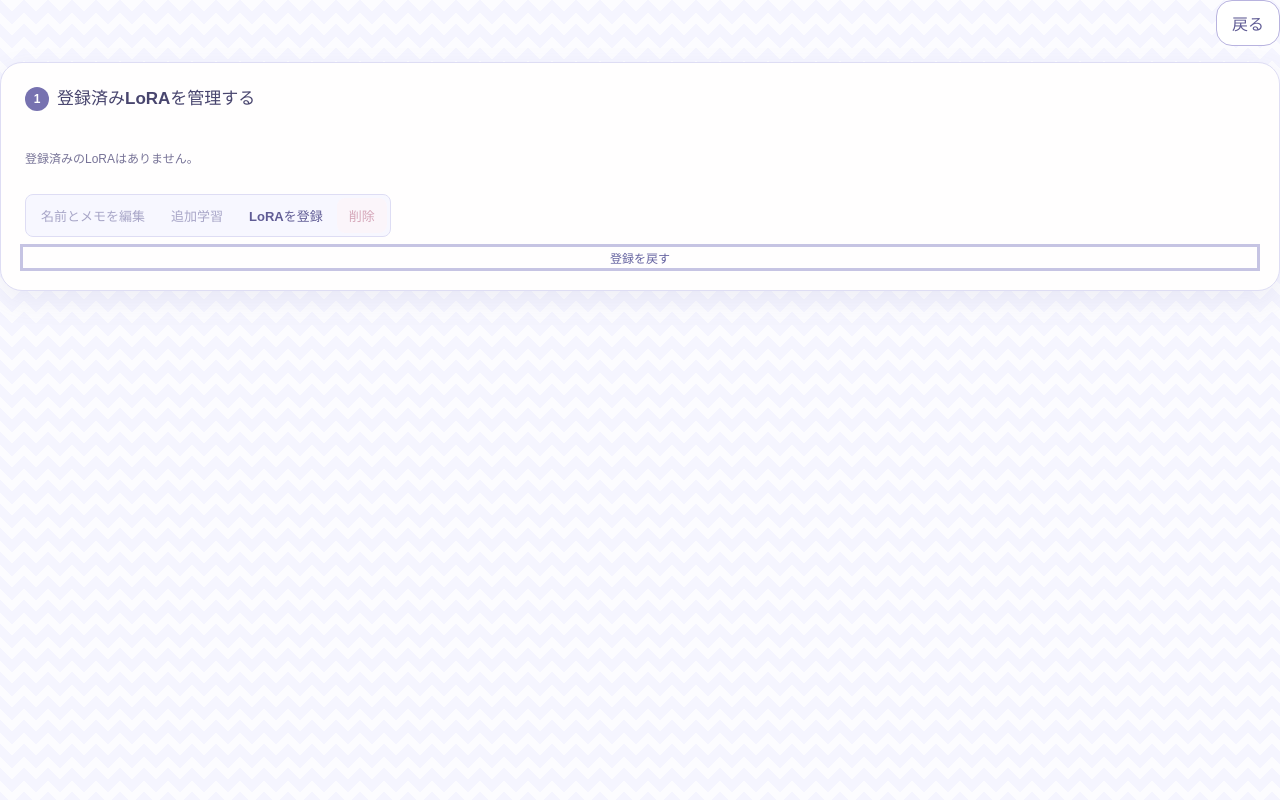
Scenario: locks restore and close while pending and restores focus on close
The width and height of the screenshot is (1280, 800).
Later steps or results of the test are not shown.
Click the button "登録を戻す".
click(640, 257)  # box [25, 248, 1255, 266]
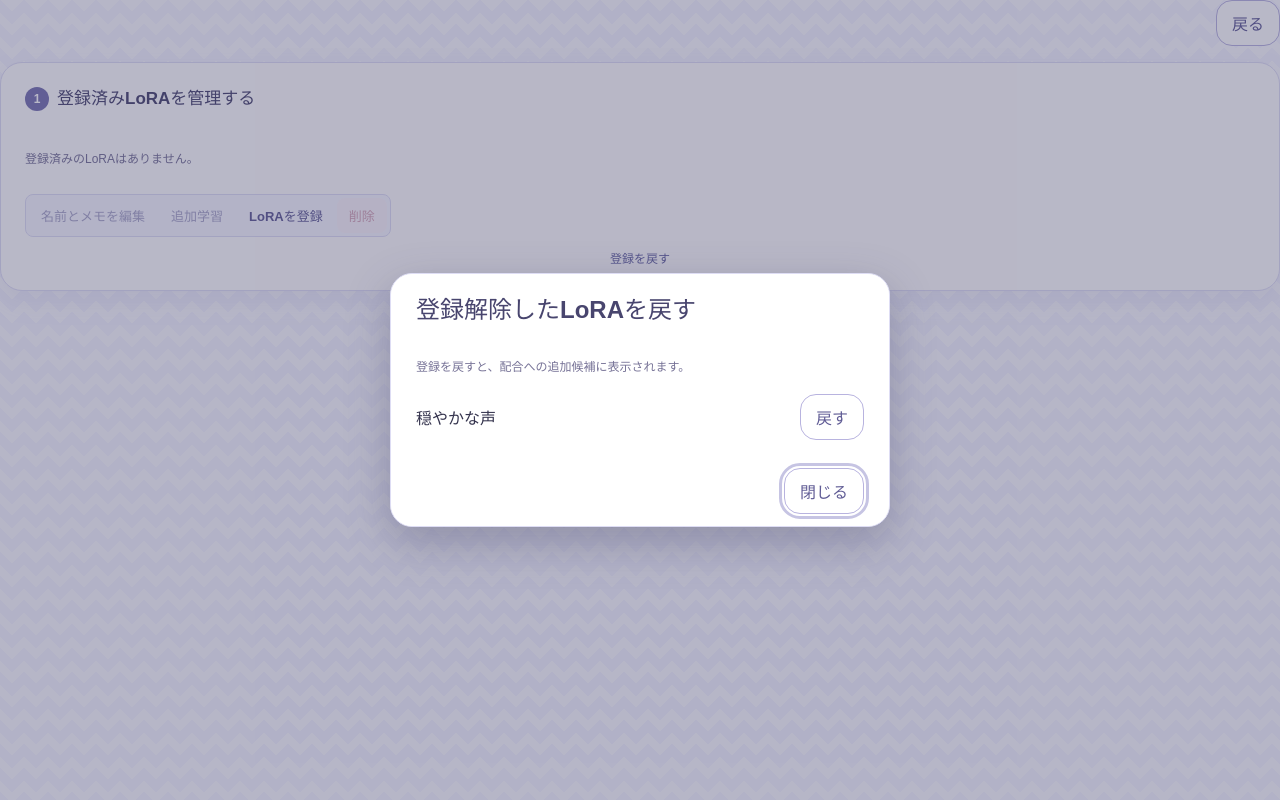
Click the button with aria-label "穏やかな声を戻す".
click(832, 417)  # box [800, 394, 864, 440]
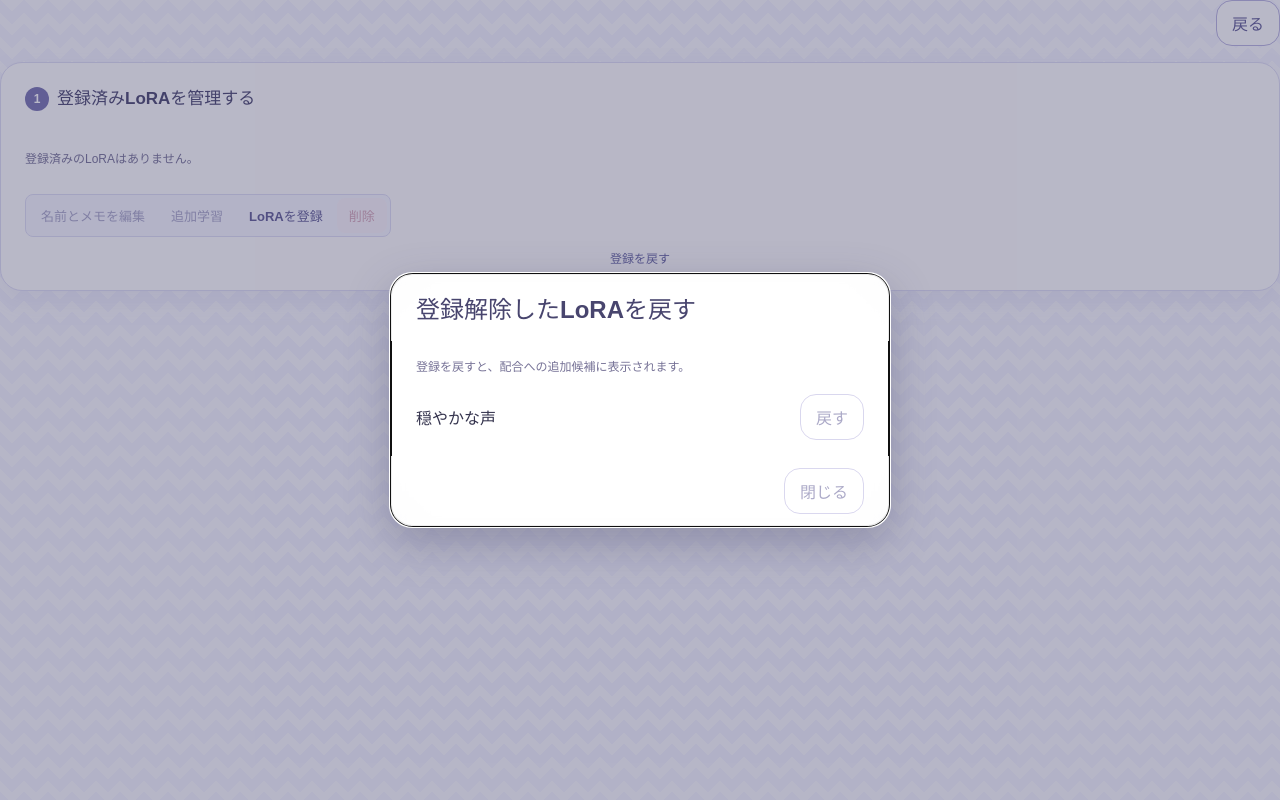
Click the button with aria-label "穏やかな声を戻す".
click(832, 417)  # box [800, 394, 864, 440]
Check: the button "閉じる" is disabled, box [784, 468, 864, 514]
Press Escape
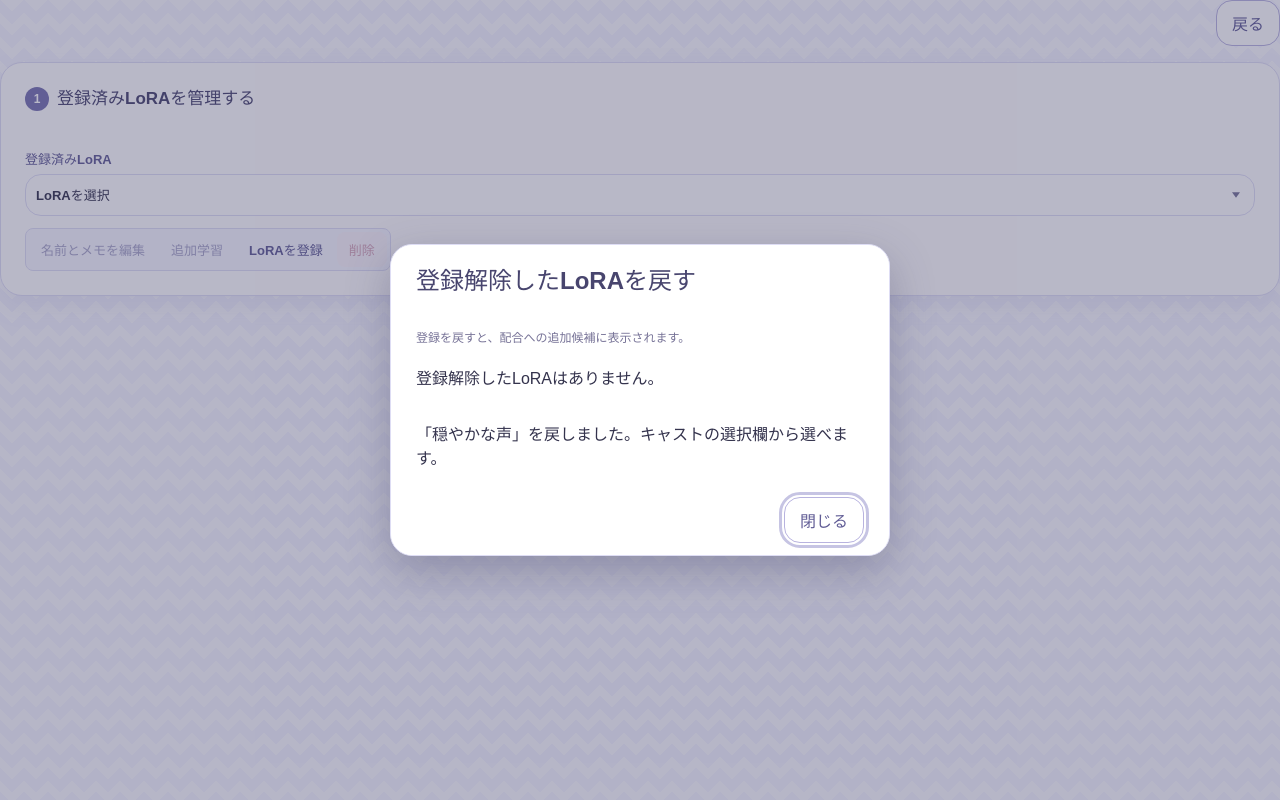
Check: the dialog is shown, box [390, 244, 890, 556]
